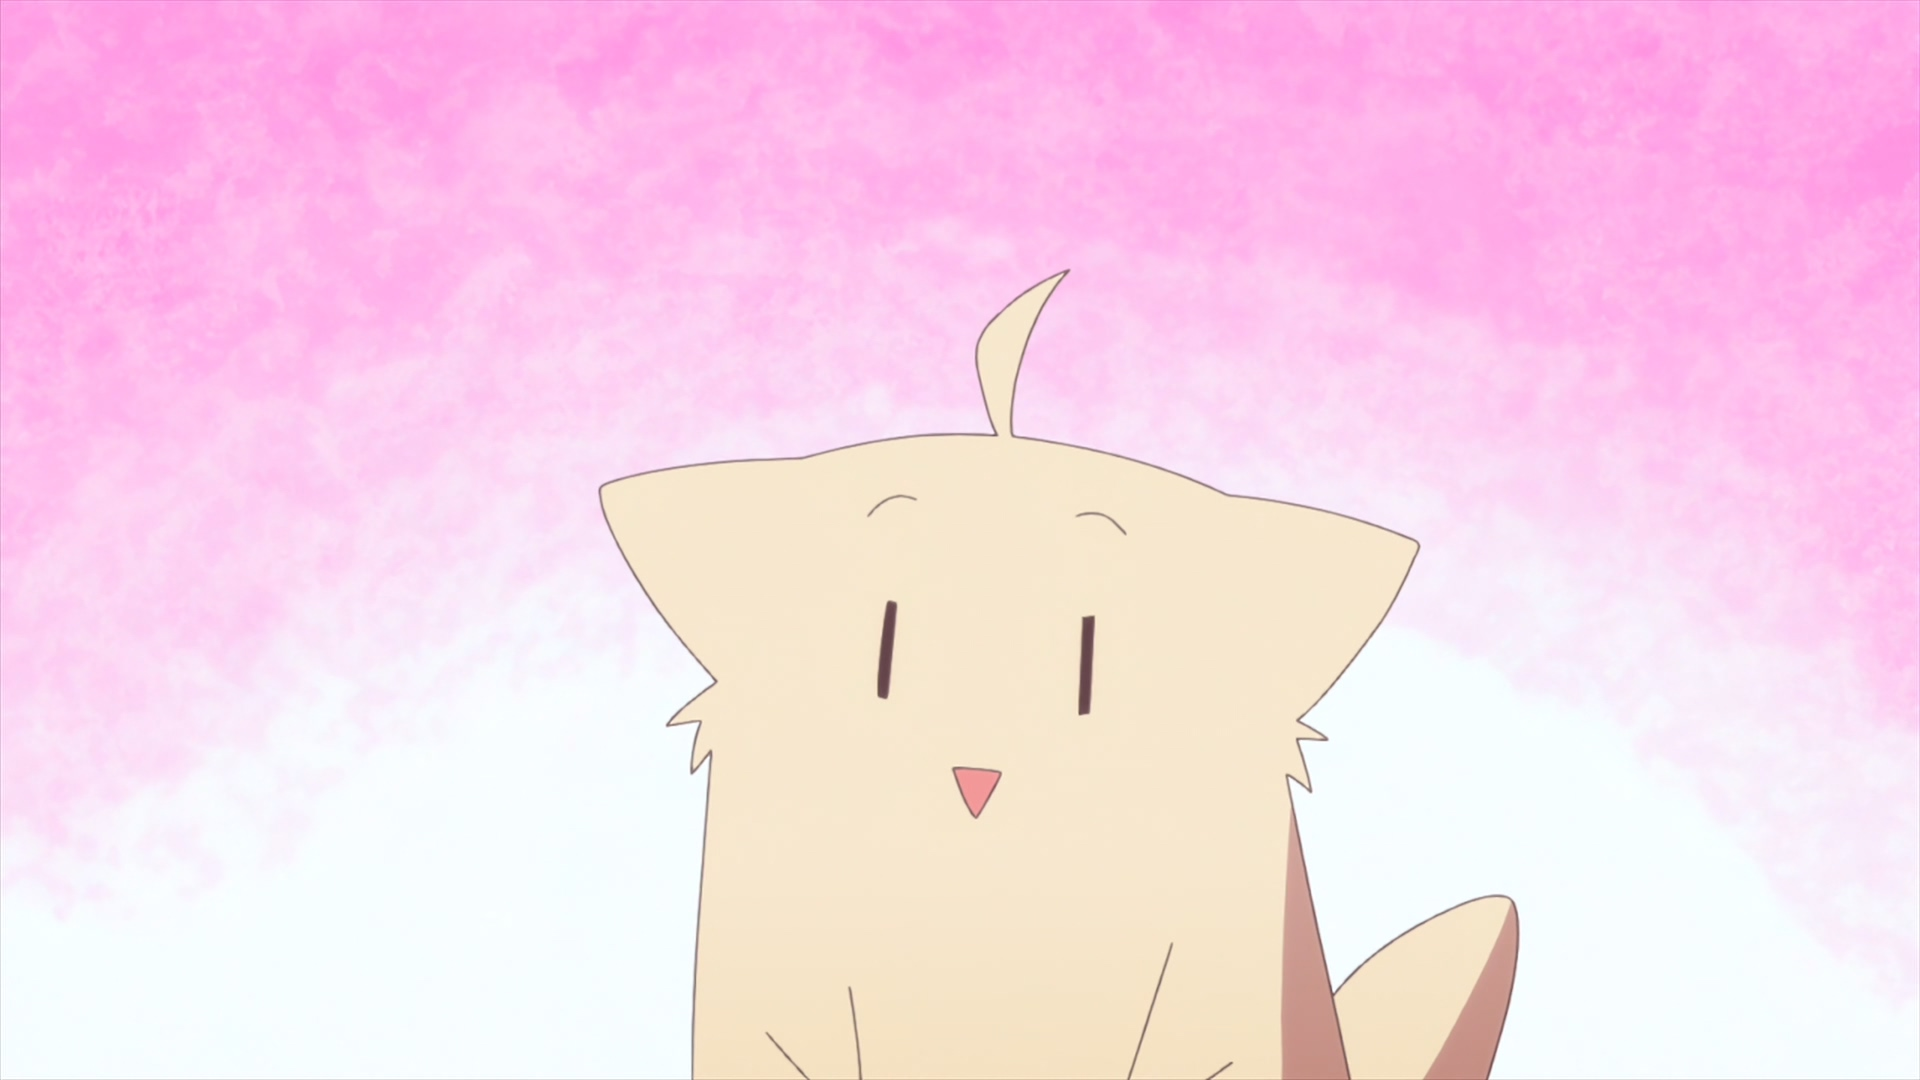柚: (601, 272, 1520, 1080)
